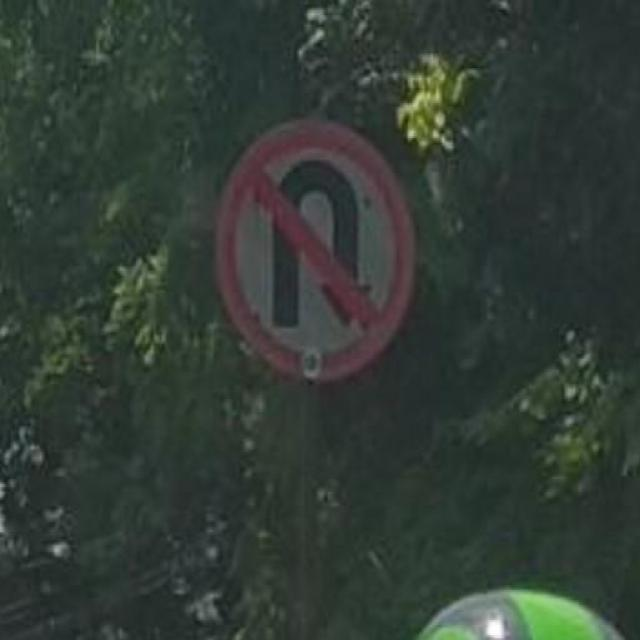traffic sign: (219, 121, 415, 378)
